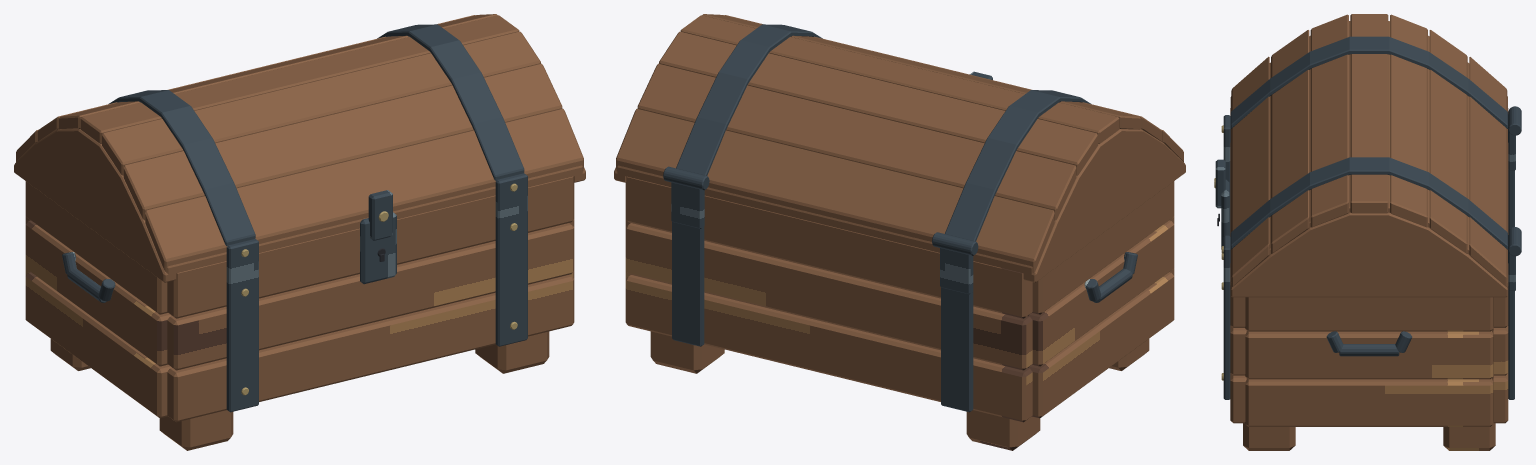
File: chest-crafted.glb
The picture shows the model from 3 angles, left to right: view 1: azimuth 30°, elevation 25°; view 2: azimuth 150°, elevation 25°; view 3: azimuth 270°, elevation 25°; orthographic projection. The views are drawn at different scales.
Parts seen in each view (by area): view 1: chest-crafted runtime mesh; view 2: chest-crafted runtime mesh; view 3: chest-crafted runtime mesh.
Boxes of the visible parts, bbox=[...] form: chest-crafted runtime mesh: bbox=[14, 14, 585, 450]; chest-crafted runtime mesh: bbox=[614, 14, 1185, 450]; chest-crafted runtime mesh: bbox=[1214, 14, 1521, 450].
Bounding box in the file's own units: 0.9205 × 0.5897 × 0.6144.
4 materials, 2 textured.
